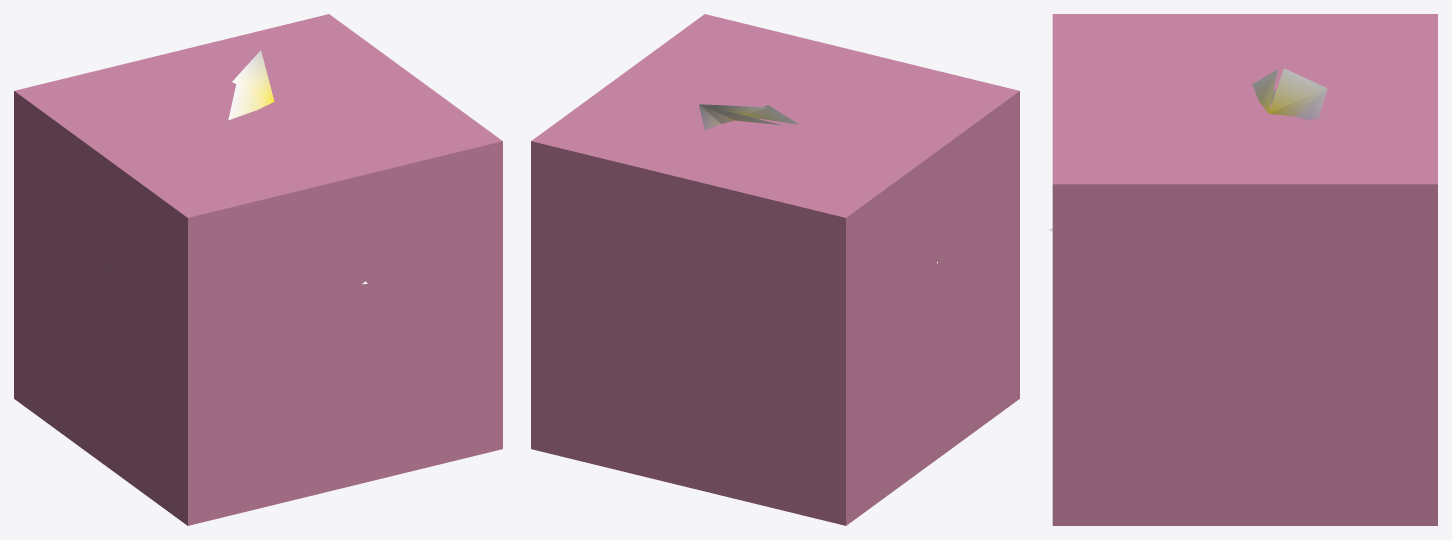
File: tree_palm_e.dae
The picture shows the model from 3 angles, left to right: view 1: azimuth 30°, elevation 25°; view 2: azimuth 150°, elevation 25°; view 3: azimuth 270°, elevation 25°; orthographic projection. The views are drawn at different scales.
Visible parts, largest first — view 1: Untitled, tree_oak_bush_a200; view 2: Untitled, tree_oak_bush_a200; view 3: Untitled, tree_oak_bush_a200.
Boxes of the visible parts, x1,y1,x2,y2 form: Untitled: (14,14,502,525); tree_oak_bush_a200: (104,50,366,284); Untitled: (531,14,1019,525); tree_oak_bush_a200: (699,104,937,263); Untitled: (1052,14,1437,525); tree_oak_bush_a200: (1049,68,1327,231).
Size of the model in its own units: 5.21 by 5.02 by 5.43.
